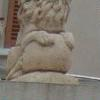Statue: (11, 2, 81, 82)
